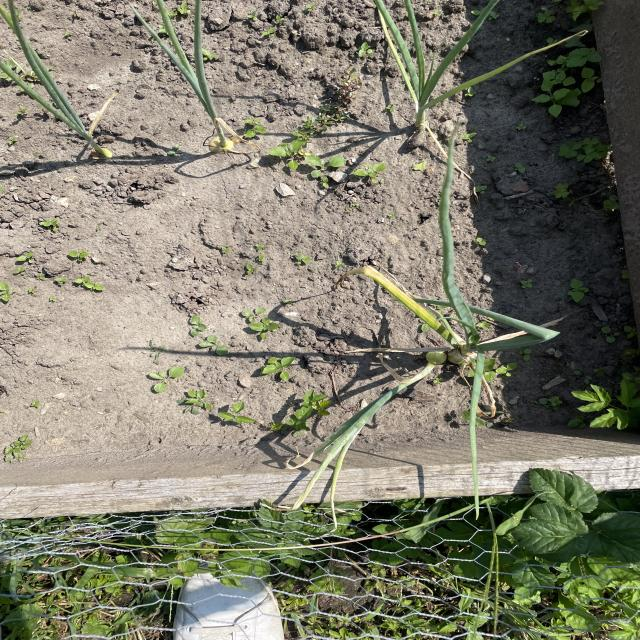Onion: (366, 271, 555, 416), (0, 14, 115, 157), (389, 0, 512, 125), (145, 3, 241, 153)
weed: (272, 138, 397, 194), (534, 29, 610, 120), (270, 382, 338, 440), (170, 382, 228, 417), (566, 132, 611, 170), (238, 305, 282, 341), (210, 399, 256, 430), (146, 358, 178, 398)
